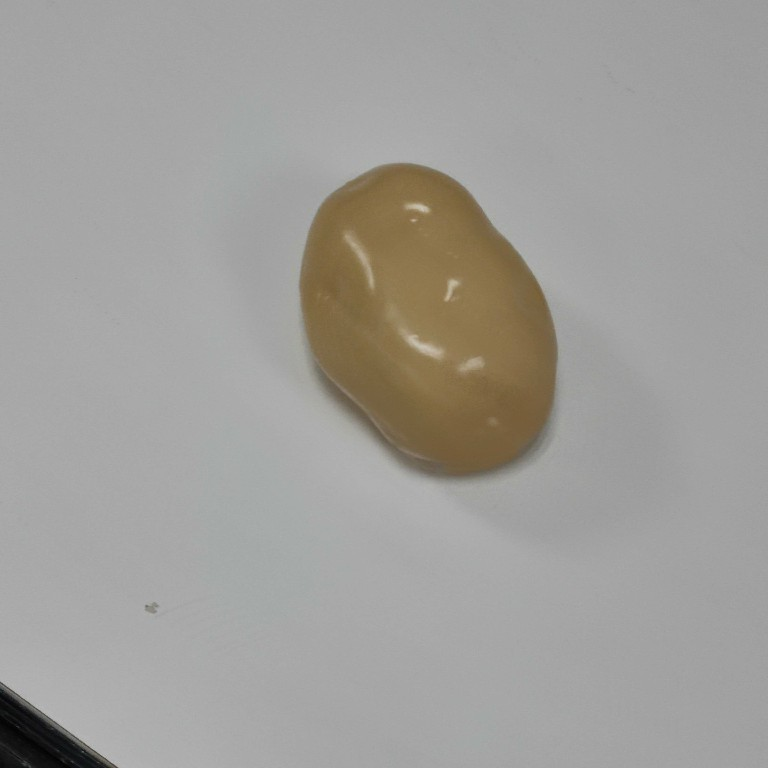fruit_potato: (295, 159, 562, 478)
